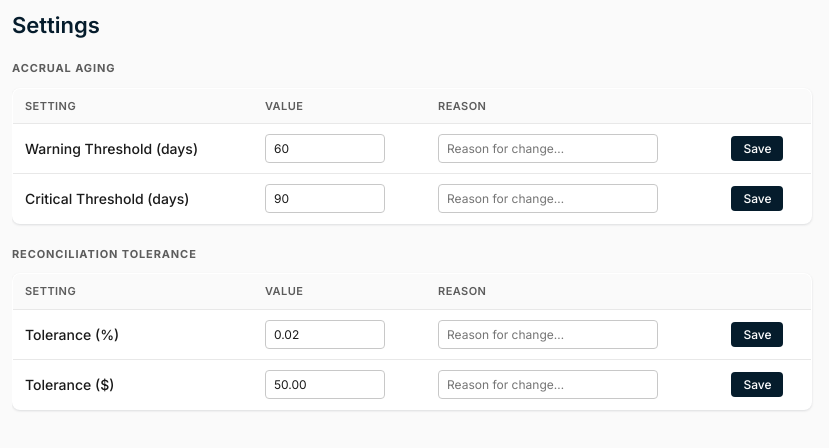
it: Settings › shows error when saving without reason
Expected: the text "Tolerance (%)" is shown, x1=12 y1=309 x2=253 y2=359
Click the button "Save" in the row of "Warning Threshold (days)": (757, 149) x1=731 y1=136 x2=784 y2=161
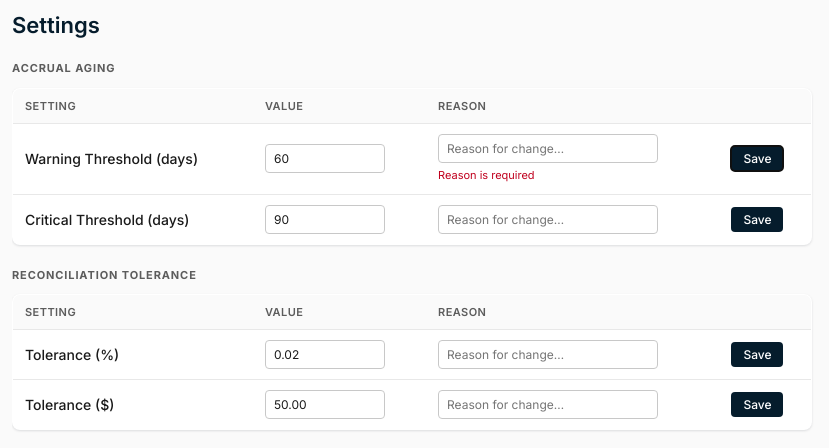
Expected: the text "Reason is required" is shown, x1=438 y1=168 x2=535 y2=182
